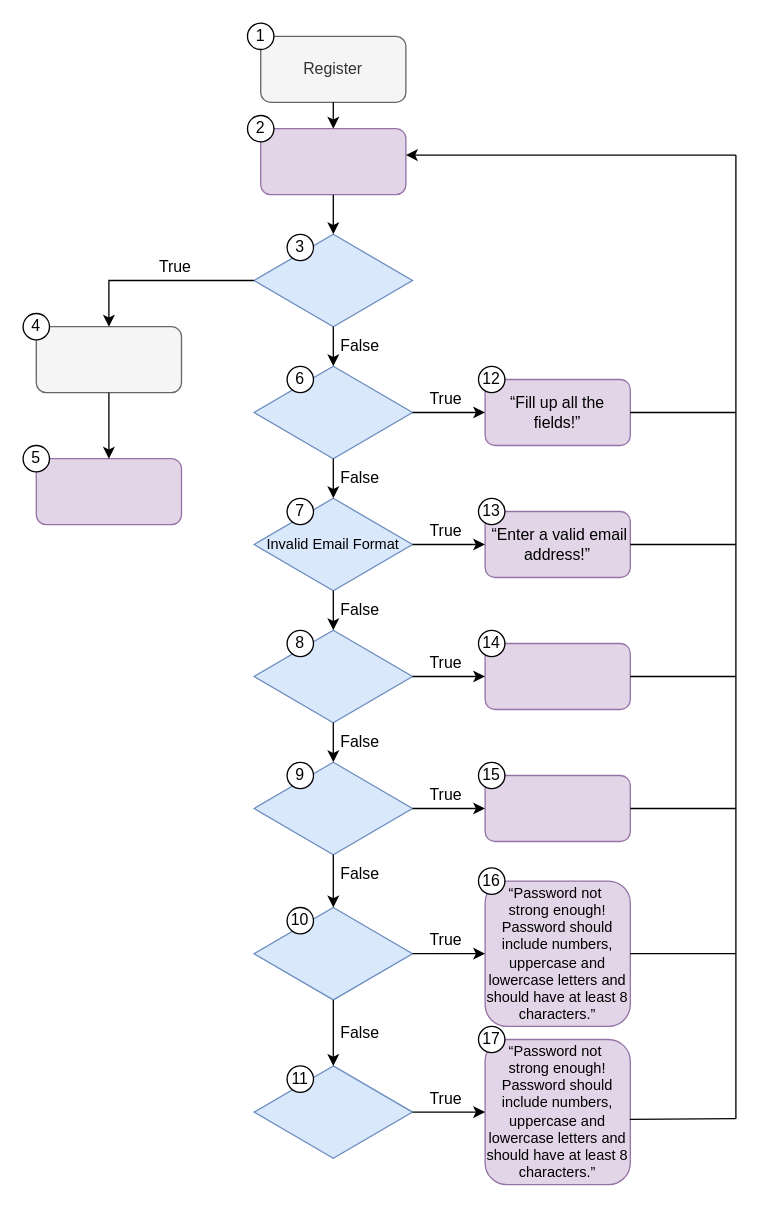
This 770x1208 diagram has some shape labels left out. The box of each missing label's shape, as (x1, y1, x2, y2) in pixels:
Account is created: (35, 325, 182, 393)
Existing Email: (253, 629, 412, 723)
Existing Username: (253, 761, 412, 855)
Field(s) unpopulated: (253, 365, 412, 459)
Invalid Password: (253, 906, 412, 1000)
Passwords do not match: (253, 1065, 412, 1158)
Project List Page: (35, 457, 182, 525)
Register Interface: (259, 127, 406, 195)
Valid Input: (253, 233, 412, 327)
“Email address already taken!”: (484, 642, 630, 710)
“Username already taken!”: (484, 774, 630, 842)
